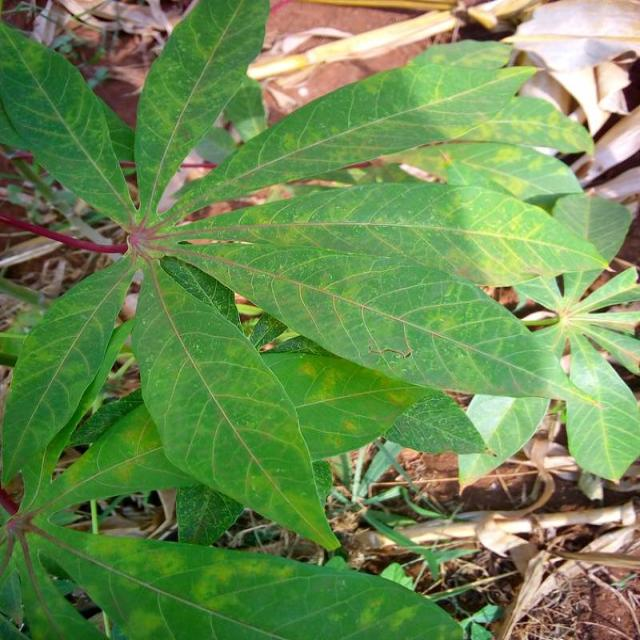cassava leaf: (0, 2, 638, 636), (130, 253, 342, 551)
